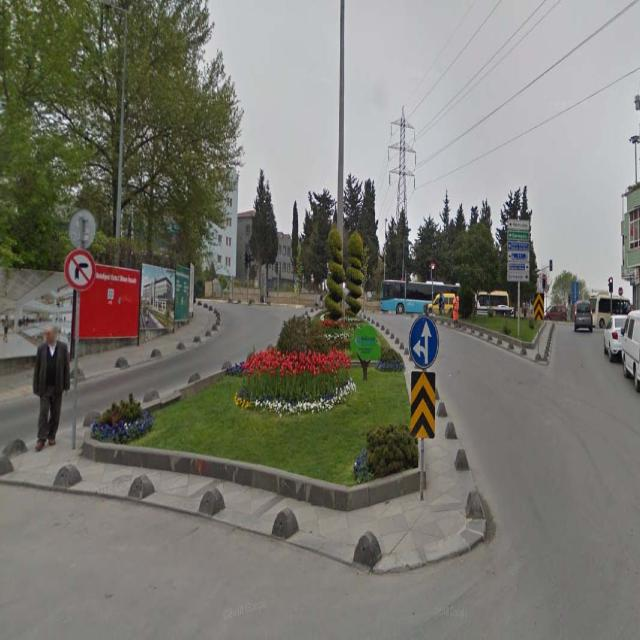ilerisol: (409, 315, 438, 369)
sagadonulmez: (65, 248, 97, 291)
